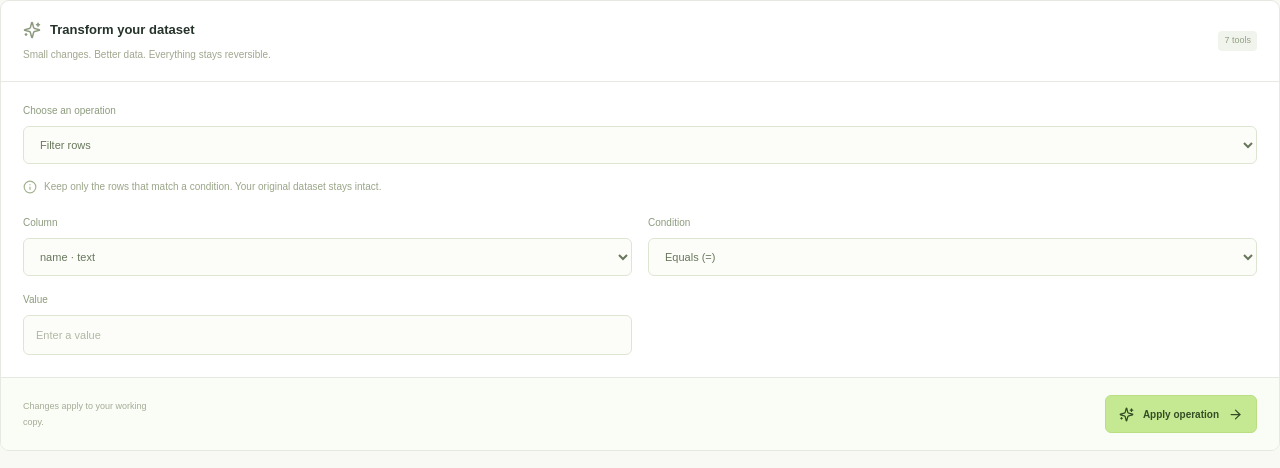
Test case: OperationForm › prevents selecting an empty subset of columns
Select "Select a subset of columns" in the dropdown labelled "Choose an operation": (640, 144) [23,126,1257,164]
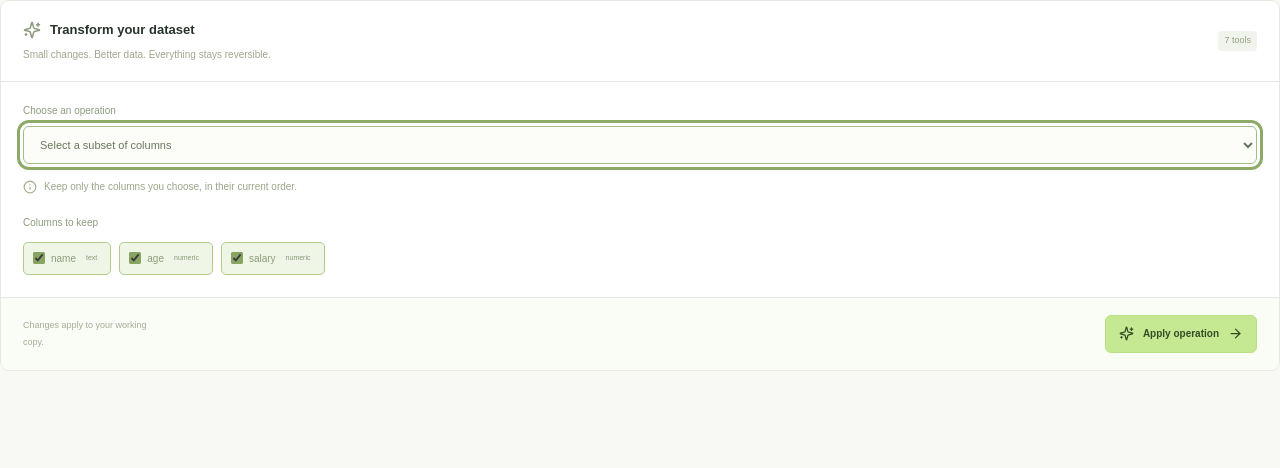
Click the checkbox labelled "name text": (39, 258) [33,252,45,264]
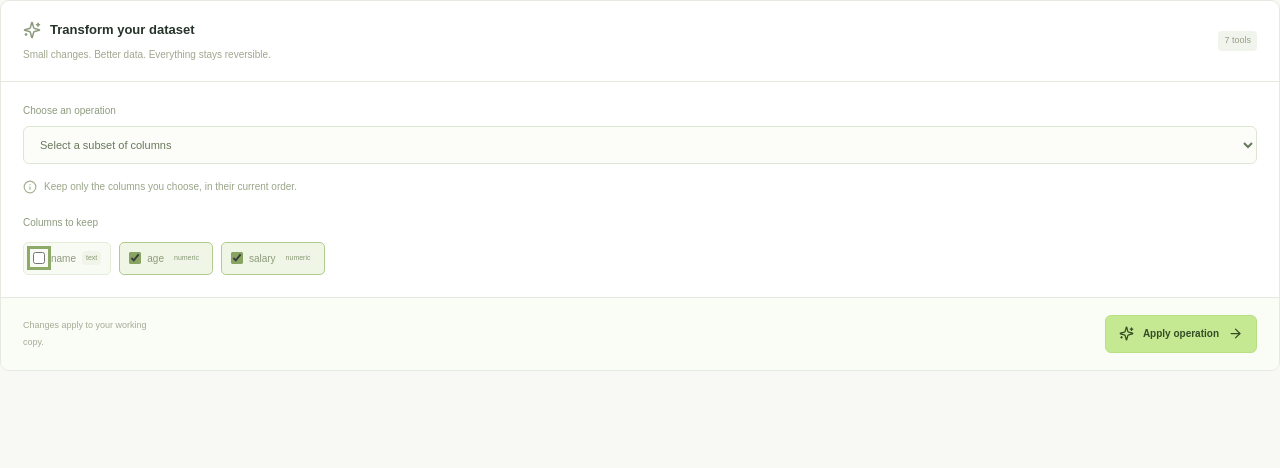
Click the checkbox labelled "age numeric": (135, 258) [129,252,141,264]
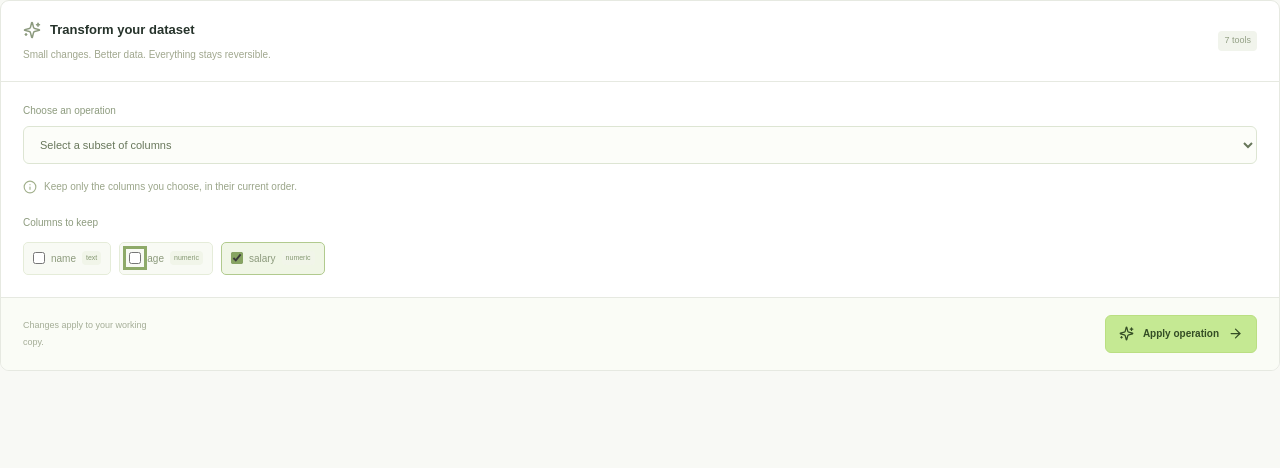
Click the checkbox labelled "salary numeric": (237, 258) [231,252,243,264]
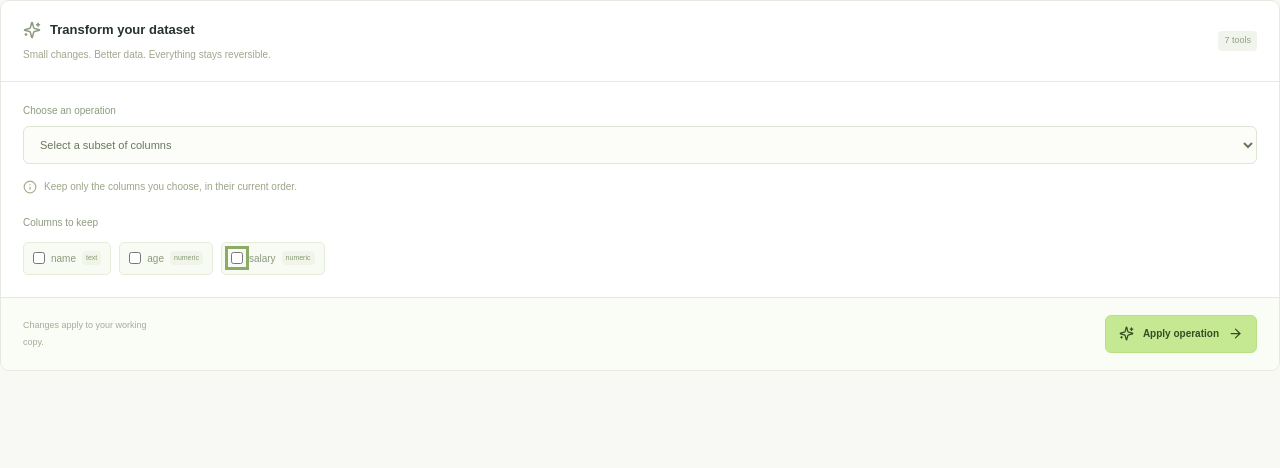
Click the button "Apply operation": (1181, 334) [1105,314,1257,352]
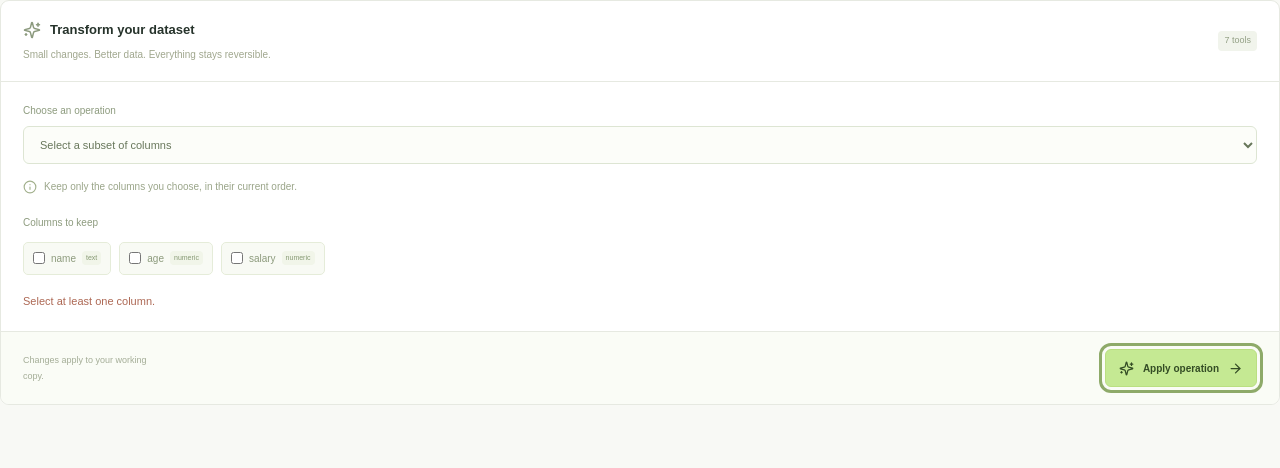
Now the message shows "Select at least one column", box [23,294,155,306]
